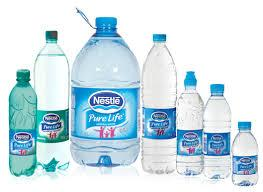Plastic bottle: (66, 5, 140, 172), (27, 22, 65, 173), (138, 35, 177, 178), (9, 55, 40, 181), (173, 65, 199, 177), (202, 85, 231, 182), (229, 116, 261, 188)
